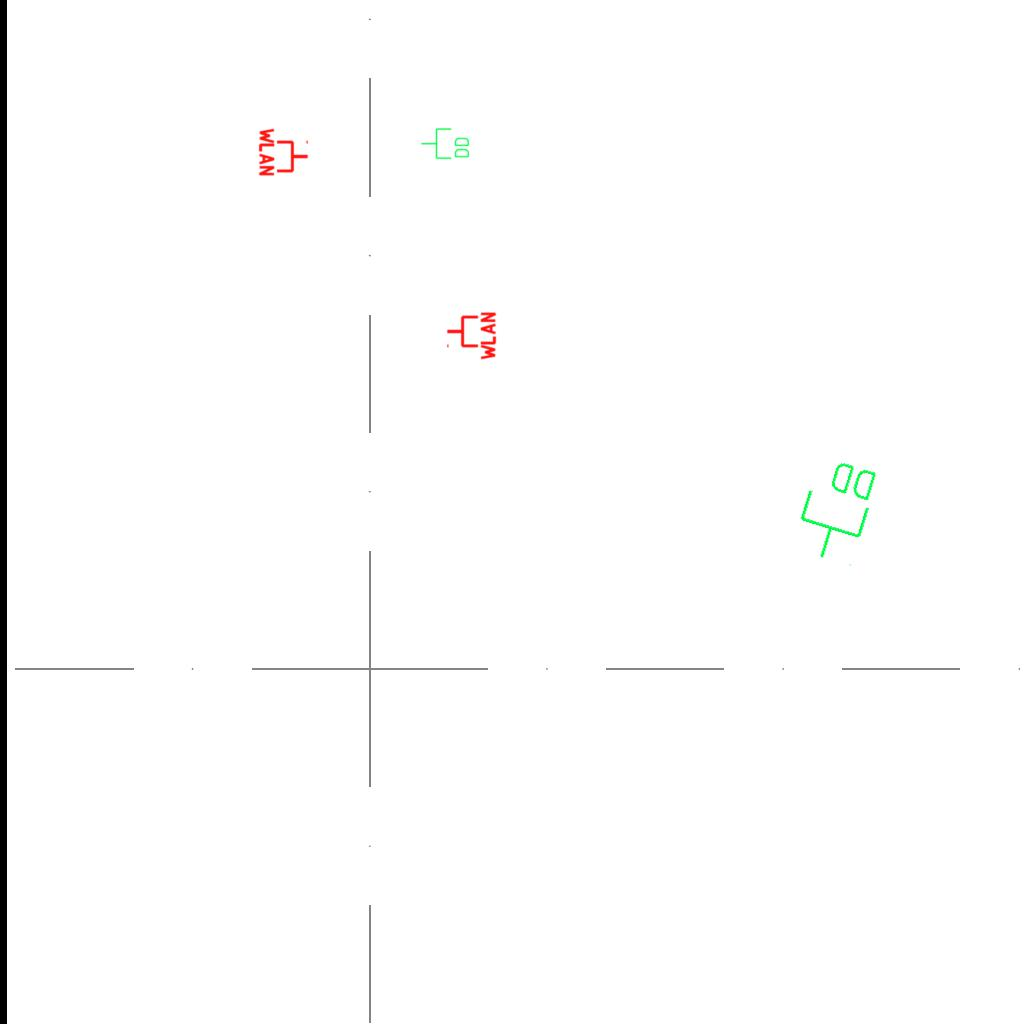Datenanschluss_zweifach: (788, 451, 885, 570), (420, 127, 471, 161)
WLAN: (258, 126, 310, 178), (445, 310, 497, 362)
